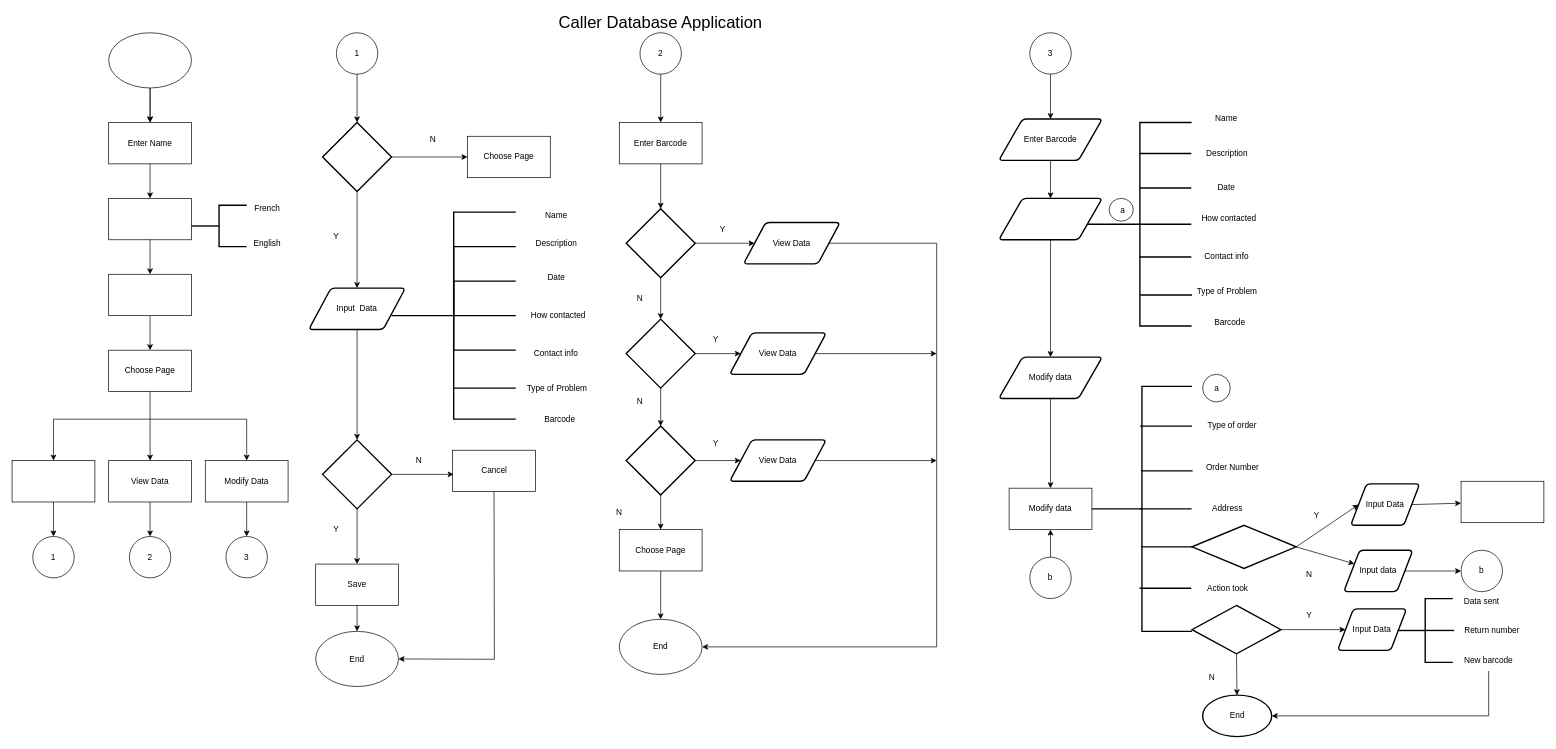
The diagram is 1556 pixels wide and 749 high, and some of its shapes have lost their labels. Here are the shapes that lost their labels. From the top down, the centre of each, then its label:
At (x=149, y=60): "Start".
At (x=357, y=156): "Add data?".
At (x=149, y=219): "Change Language".
At (x=1050, y=218): "Load Data".
At (x=660, y=243): "Solved Problem ?".
At (x=149, y=295): "Login".
At (x=660, y=353): "Ongoing ?".
At (x=357, y=474): "Save?".
At (x=660, y=460): "Not Solved ?".
At (x=53, y=481): "Add data".
At (x=1502, y=502): "Describe Solution".
At (x=1244, y=546): "Problem Solved ?".
At (x=1236, y=629): "New Order ?".
